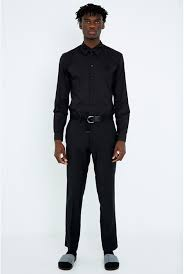F_belt: (66, 109, 119, 127)
F_dress pants: (60, 127, 126, 255)
F_shirt: (56, 42, 130, 149)
